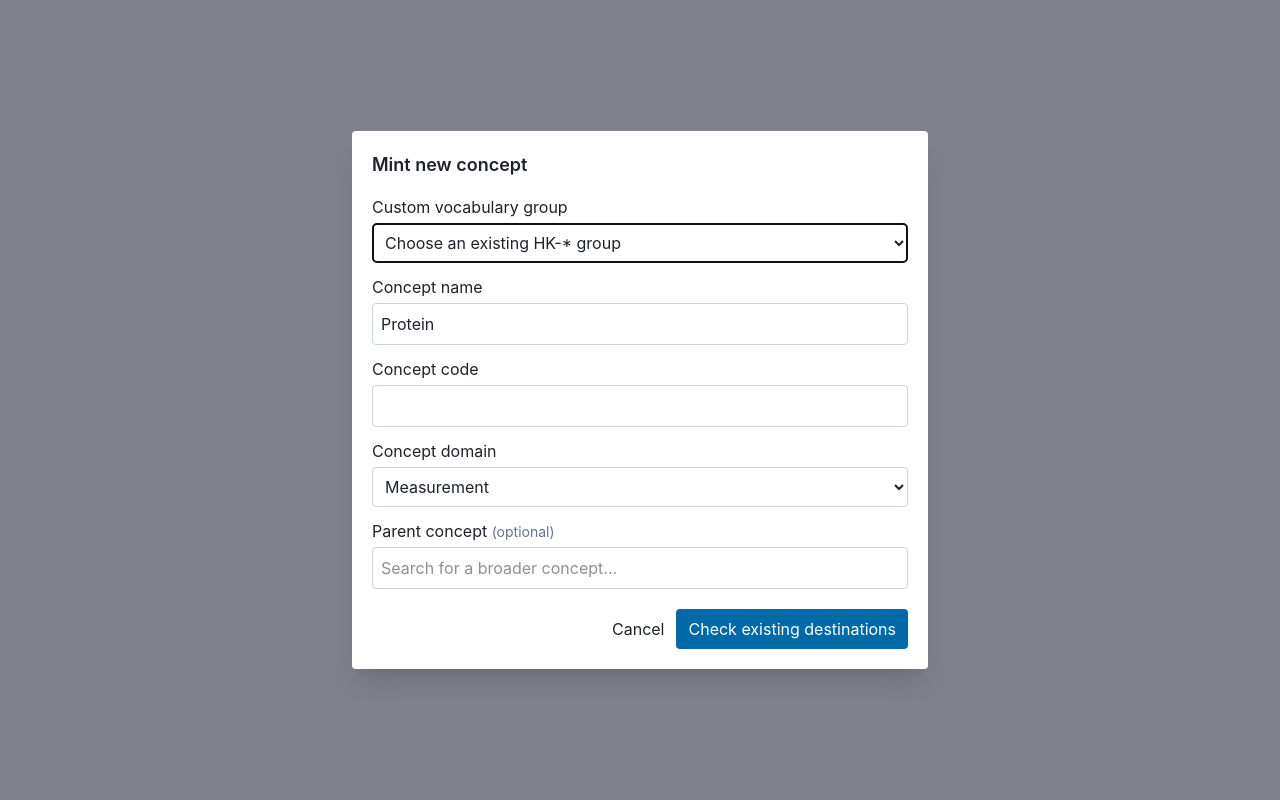
Test: mint destination review › does not allow minting after a failed candidate check
Select "HK-Labs — Labs" in the dropdown labelled "Custom vocabulary group". click: (640, 243)
box: [372,223,908,263]
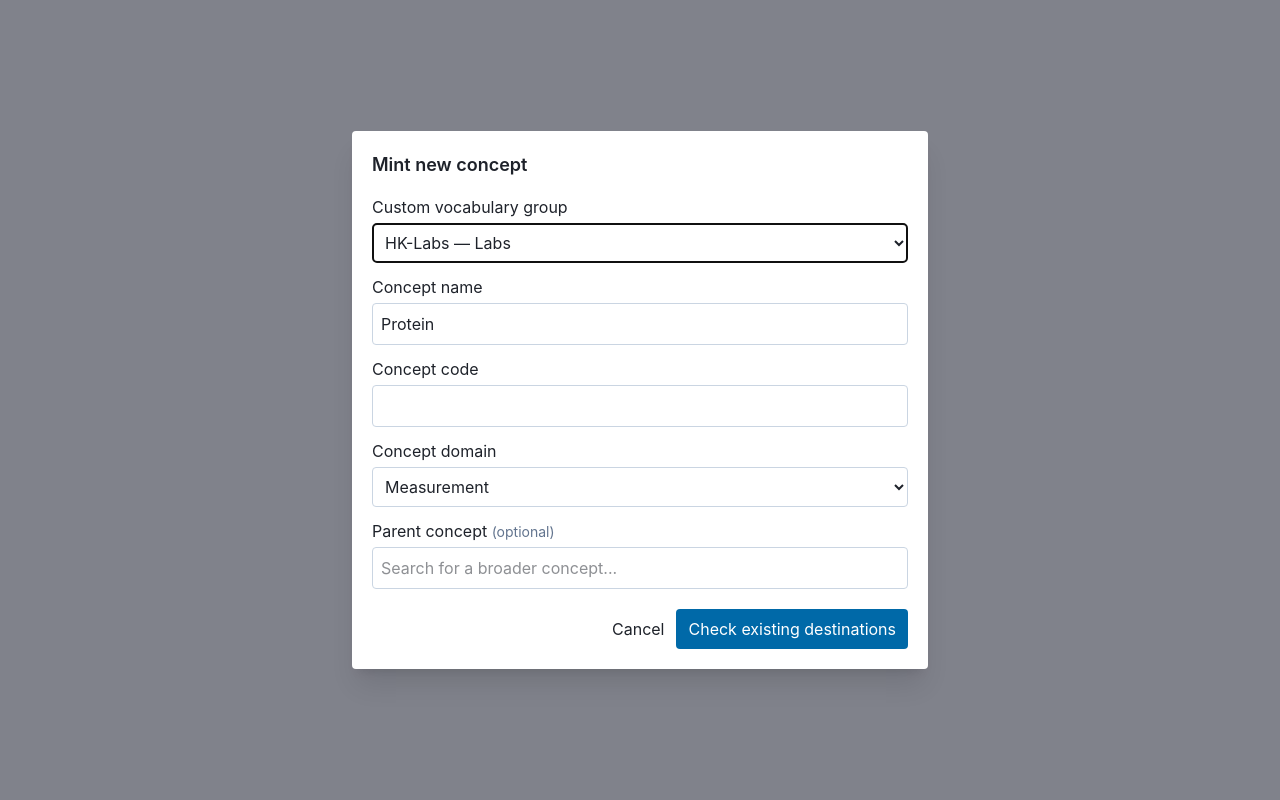
Type "my-protein" into the field labelled "Concept code". click: (640, 406)
box: [372,385,908,427]
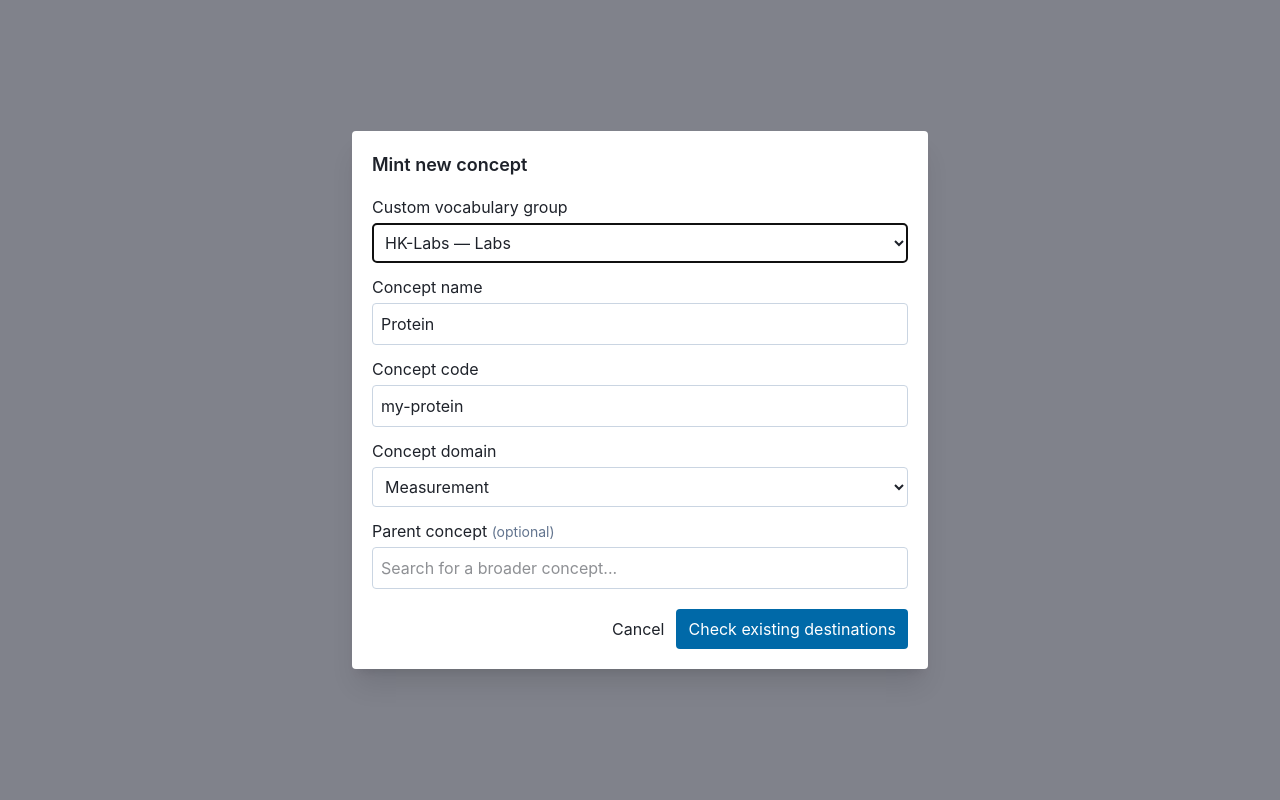
Click the button "Check existing destinations". click: (792, 629)
box: [676,609,908,649]
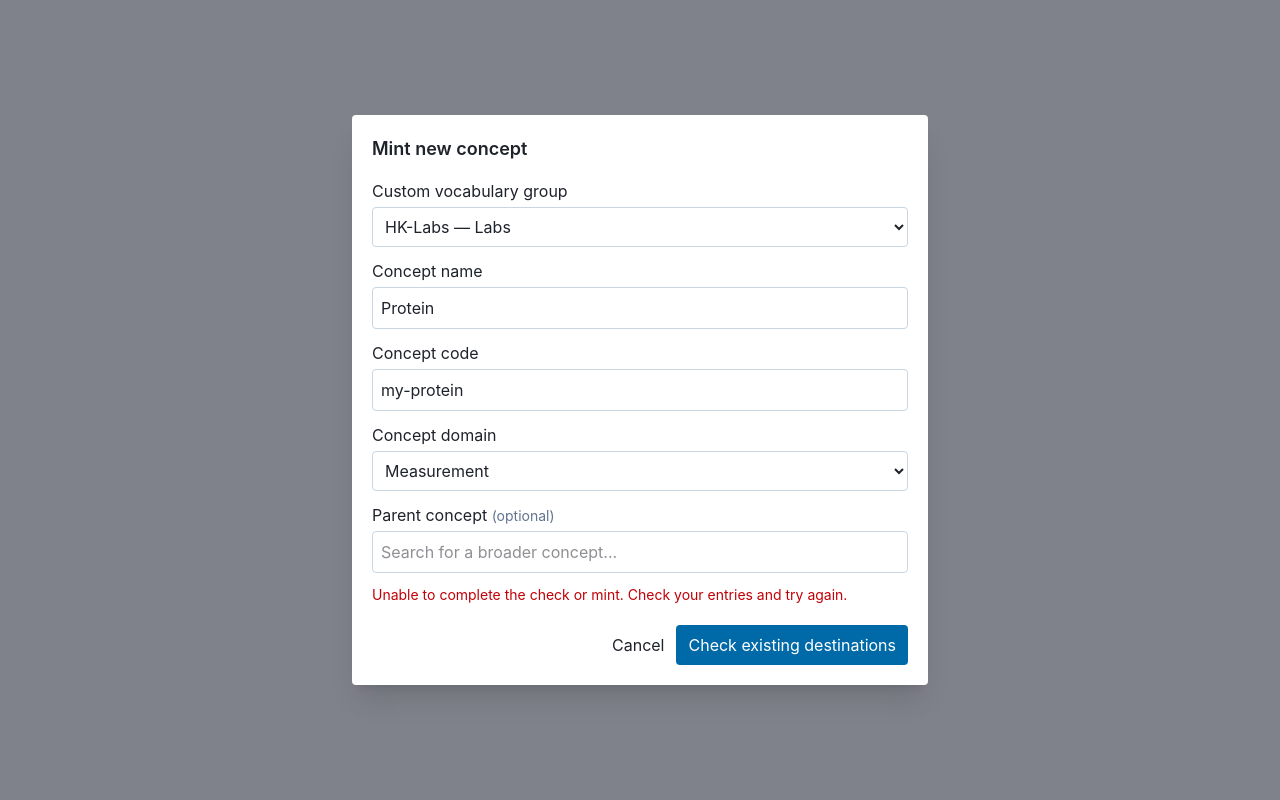
Now the message shows "Unable to complete", box [372,586,847,603]
